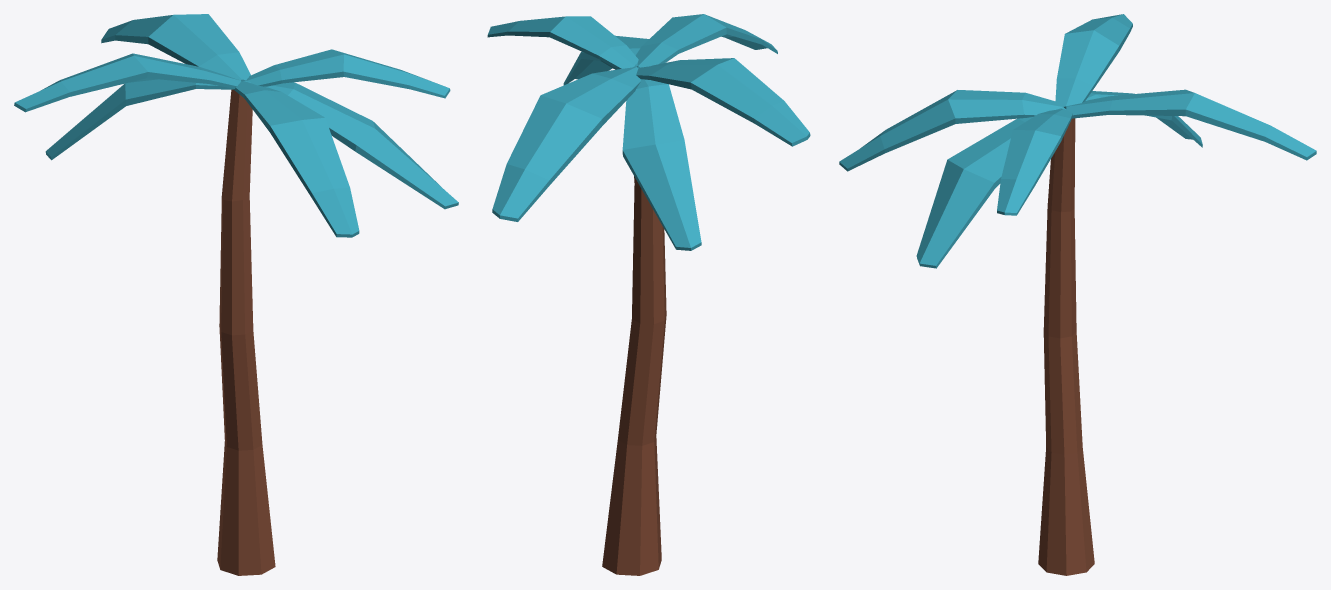
Rendered from Tree_38_summer_blue_mat.fbx.
The picture shows the model from 3 angles, left to right: view 1: azimuth 30°, elevation 25°; view 2: azimuth 150°, elevation 25°; view 3: azimuth 270°, elevation 25°; orthographic projection. The views are drawn at different scales.
Visible parts, largest first — view 1: Tree_38_summer_blue_mat; view 2: Tree_38_summer_blue_mat; view 3: Tree_38_summer_blue_mat.
Part boxes in pixels (<box>): Tree_38_summer_blue_mat: <box>14,14,458,575</box>; Tree_38_summer_blue_mat: <box>487,14,810,575</box>; Tree_38_summer_blue_mat: <box>839,14,1316,575</box>.
Bounding box in the file's own units: 160 × 214 × 189.
